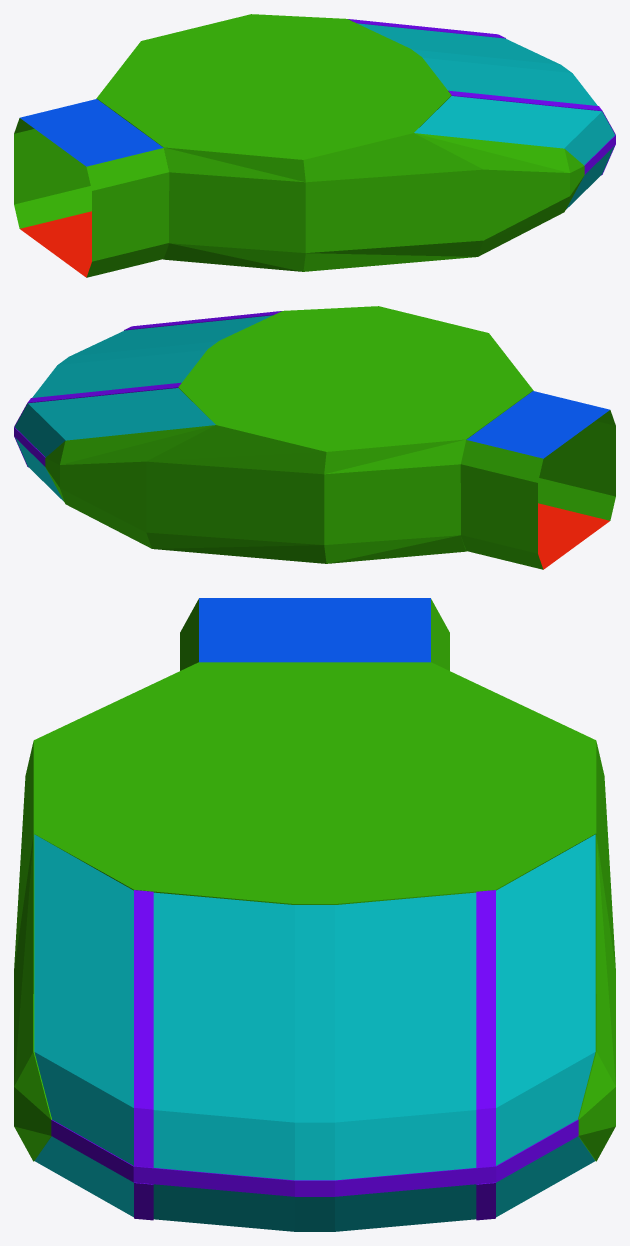
The model's file is cockpit_1.FBX.
3 renders of one model, top to bottom at view 1: azimuth 30°, elevation 25°; view 2: azimuth 150°, elevation 25°; view 3: azimuth 270°, elevation 25°, orthographic. The views are drawn at different scales.
Visible parts, largest first — view 1: Shape001; view 2: Shape001; view 3: Shape001.
Boxes of the visible parts, x1,y1,x2,y2 form: Shape001: (14,14,615,277); Shape001: (14,306,615,569); Shape001: (14,598,615,1231).
Bounding box in the file's own units: 538 × 136 × 307.
